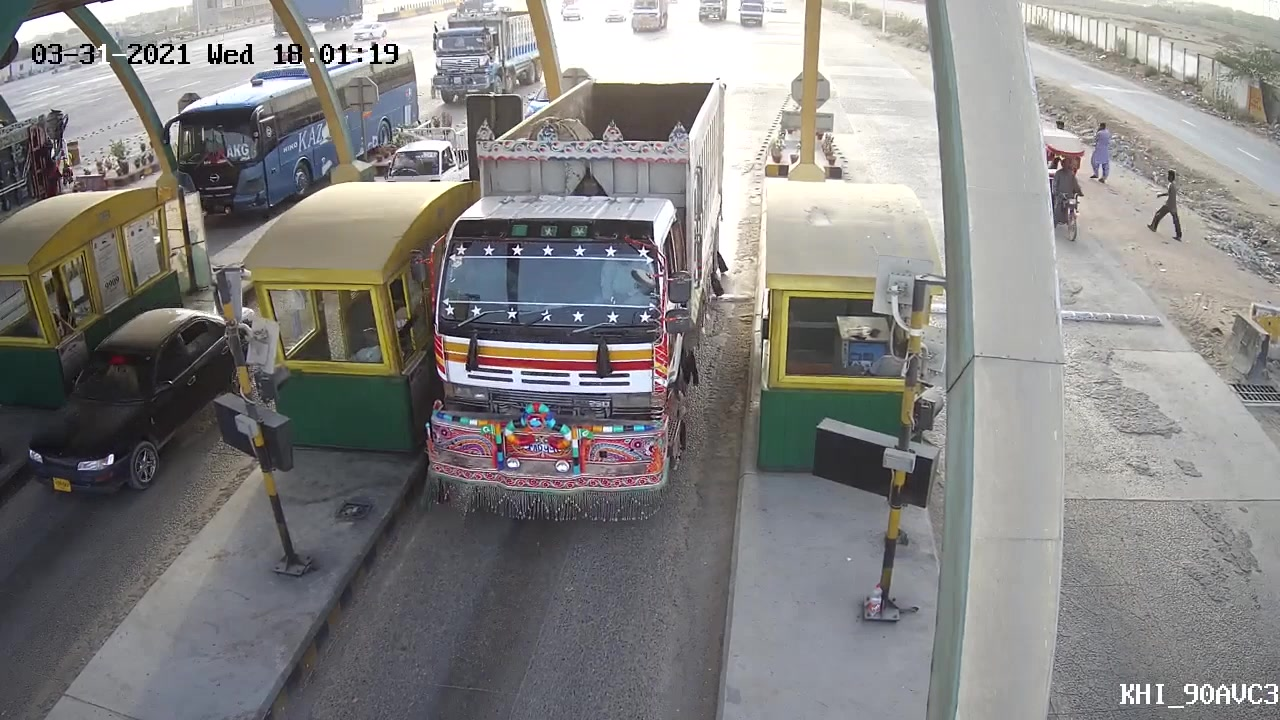F5: (405, 72, 742, 525)
